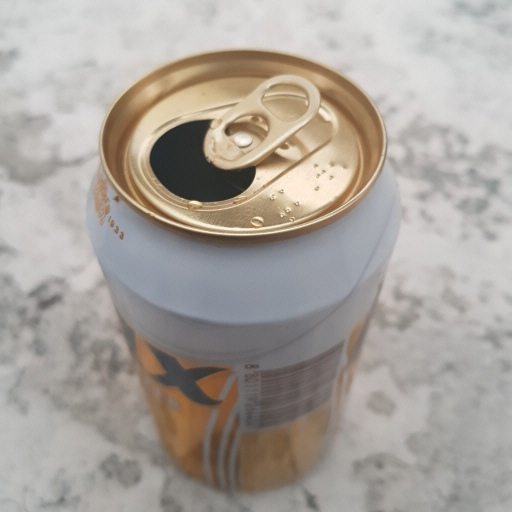Metal_0: (82, 49, 404, 492)
